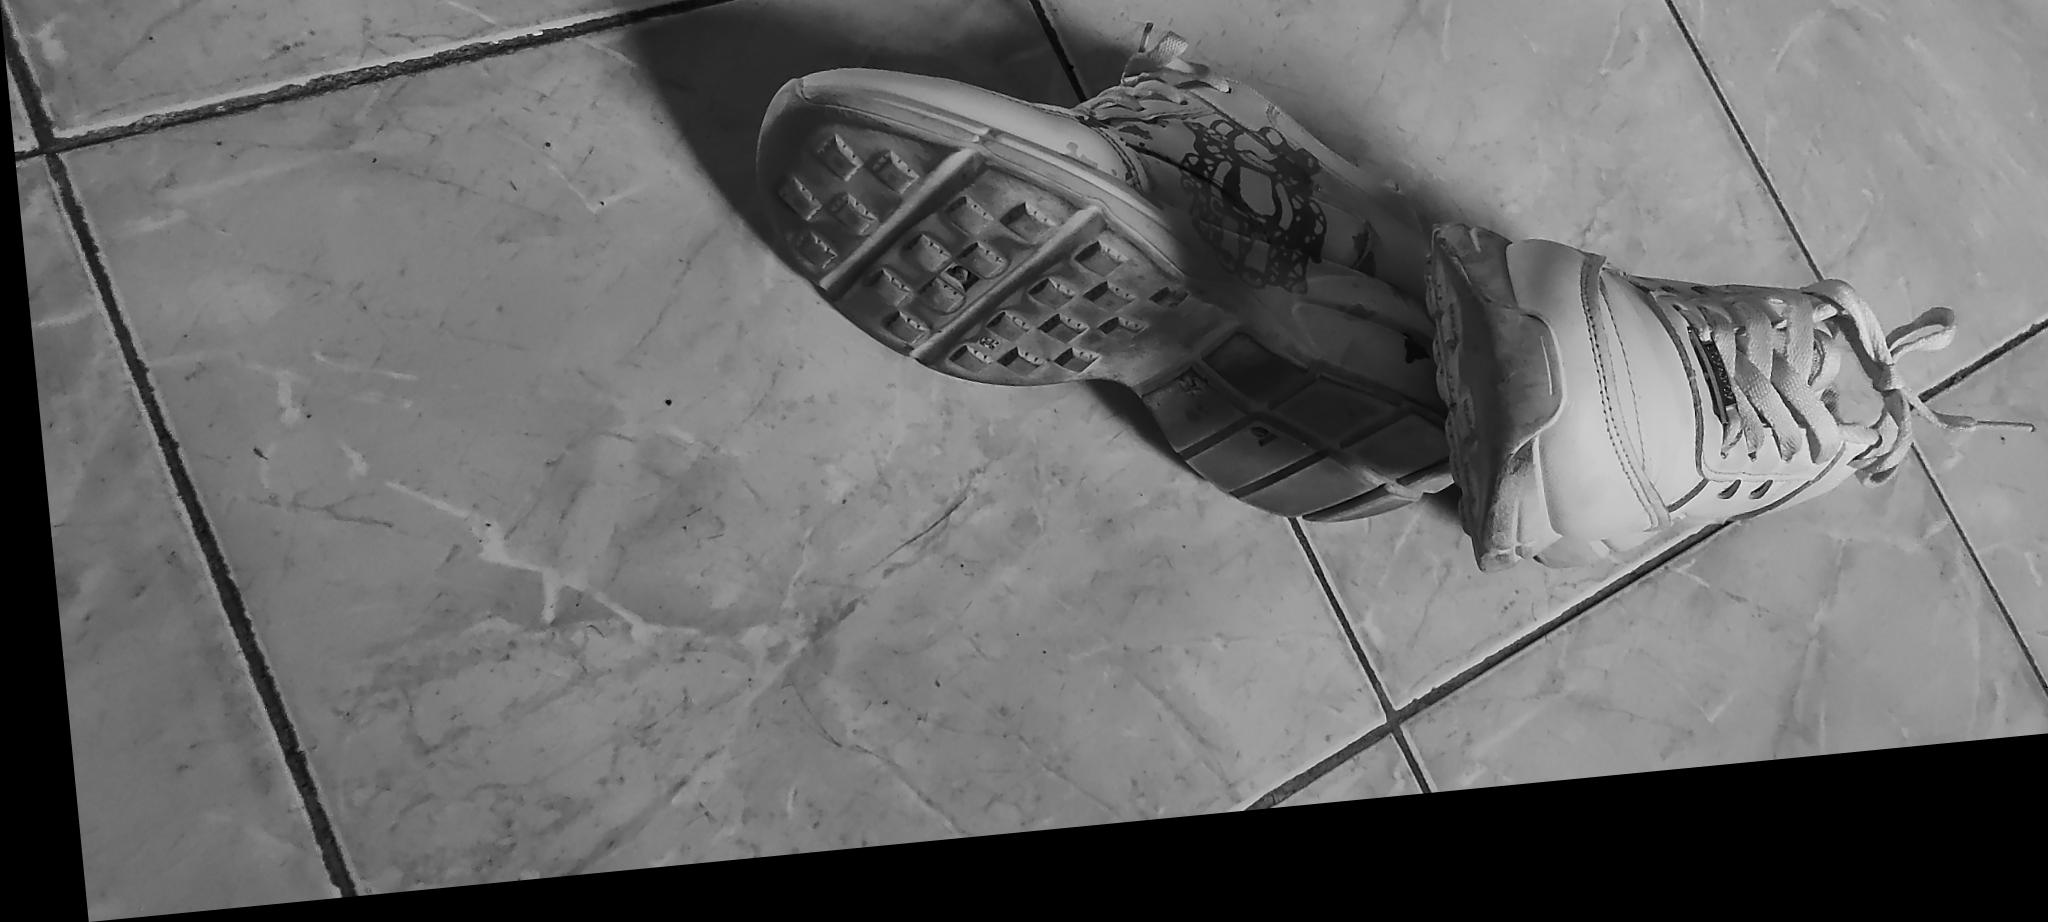Shoes: (743, 0, 1472, 574), (1436, 186, 2048, 586)
